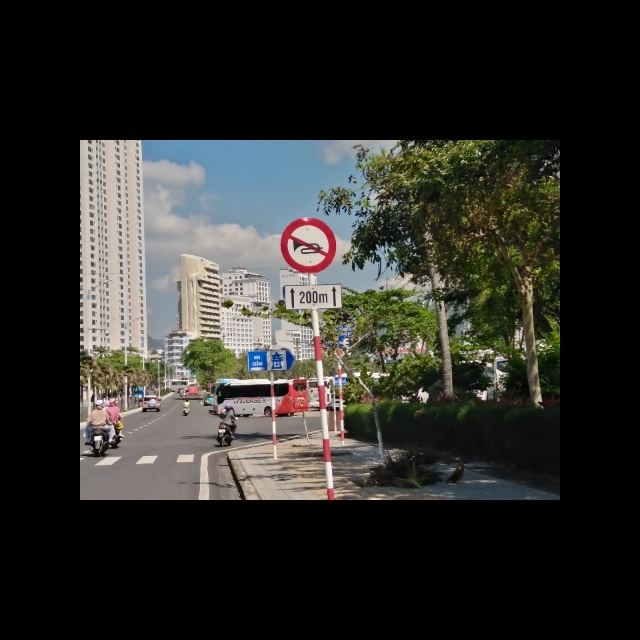Cấm bấm còi: (280, 216, 337, 272)
